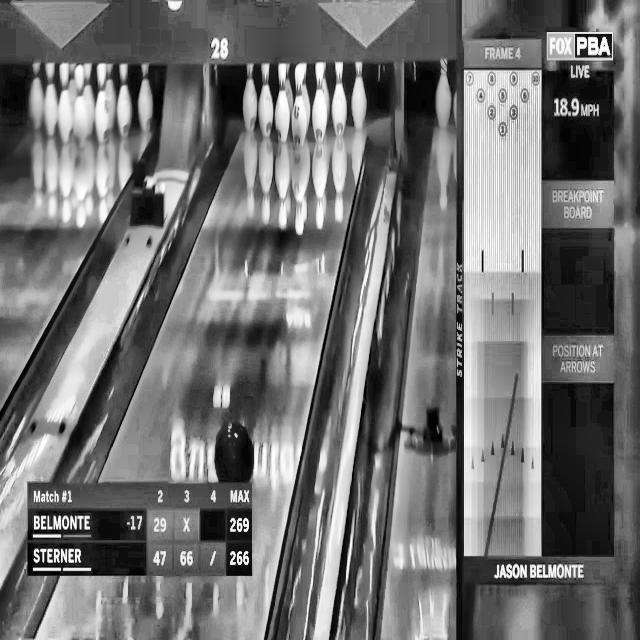bowling-ball: (214, 422, 254, 483)
bowling-pins: (72, 63, 88, 144), (312, 63, 328, 142), (332, 60, 348, 136), (57, 61, 72, 142), (274, 64, 289, 143), (116, 62, 132, 136), (258, 63, 274, 136), (43, 61, 58, 136), (94, 62, 108, 142), (292, 66, 306, 145), (243, 62, 258, 132), (352, 60, 367, 129), (437, 58, 452, 127), (28, 60, 43, 128), (138, 62, 152, 130), (82, 62, 94, 135), (299, 63, 311, 132), (104, 62, 116, 130), (285, 63, 294, 118)
